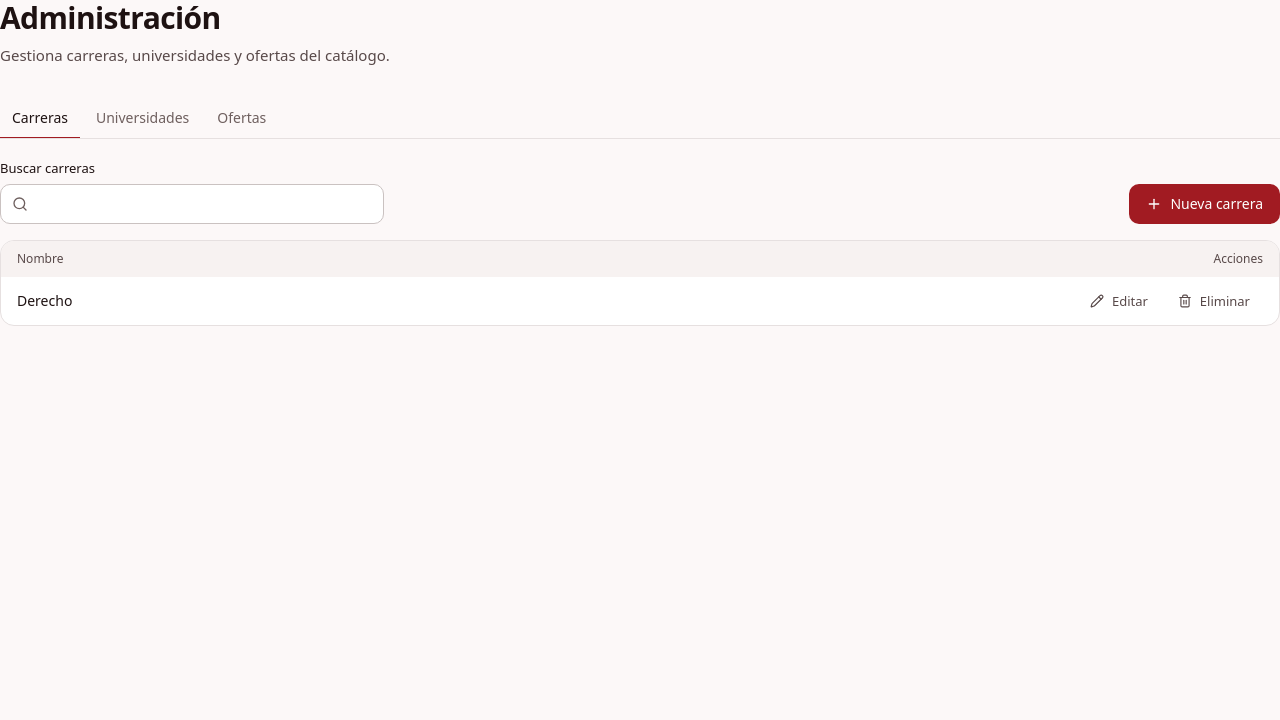
Test: Admin › eliminar pide confirmación antes de llamar a DELETE
This screenshot has width=1280, height=720.
Later steps or results of the test are not shown.
Click the button with aria-label "Eliminar carrera Derecho": (1214, 301) [1165,285,1263,317]
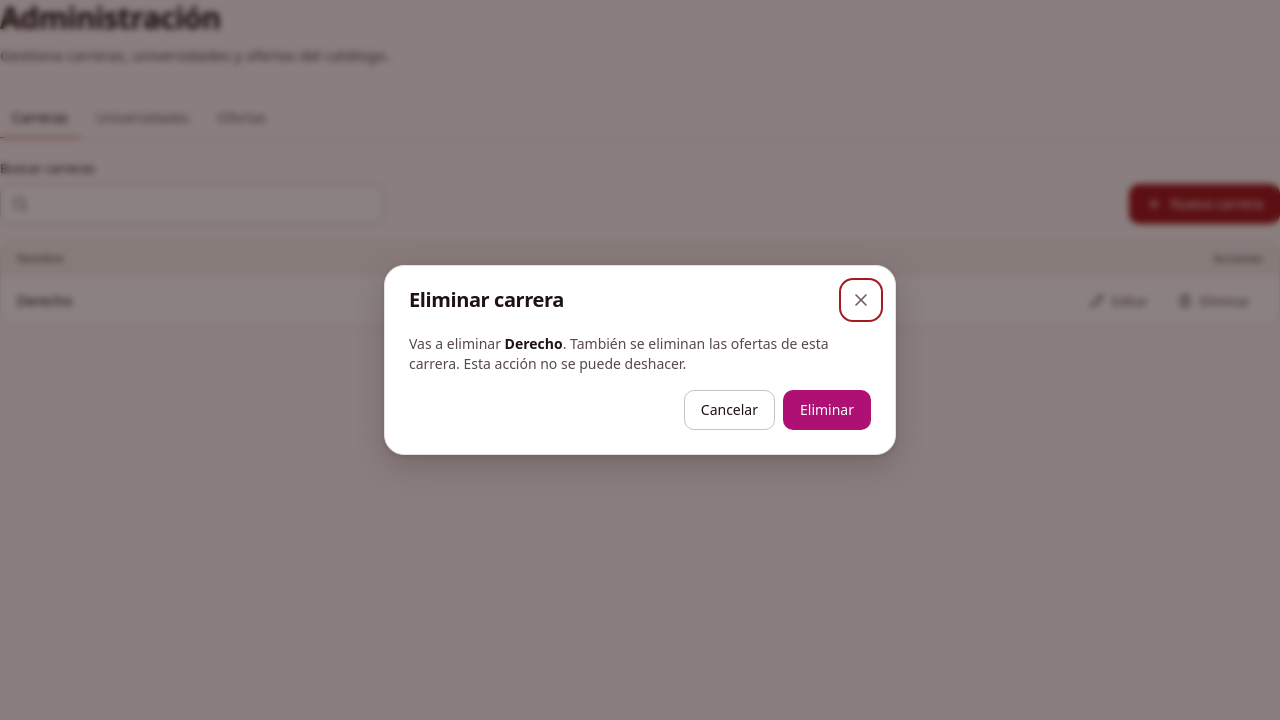
Expected: the dialog "Eliminar carrera" shows "Derecho", [505,334,563,353]
